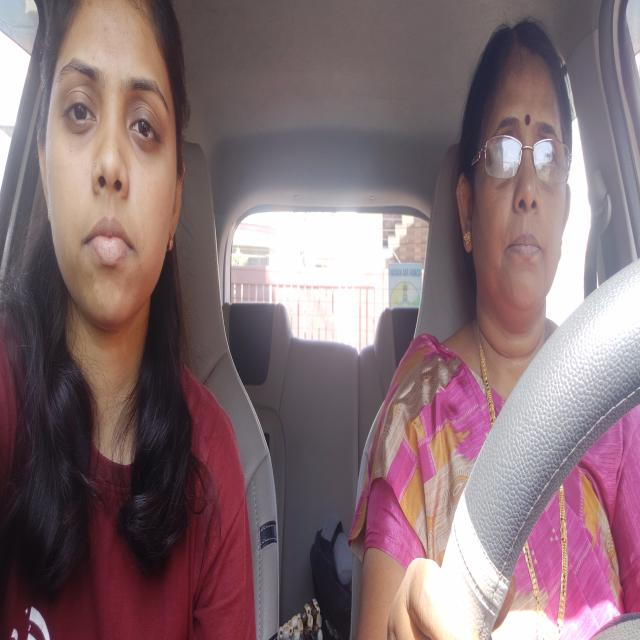person: (36, 7, 185, 329), (465, 23, 572, 322)
